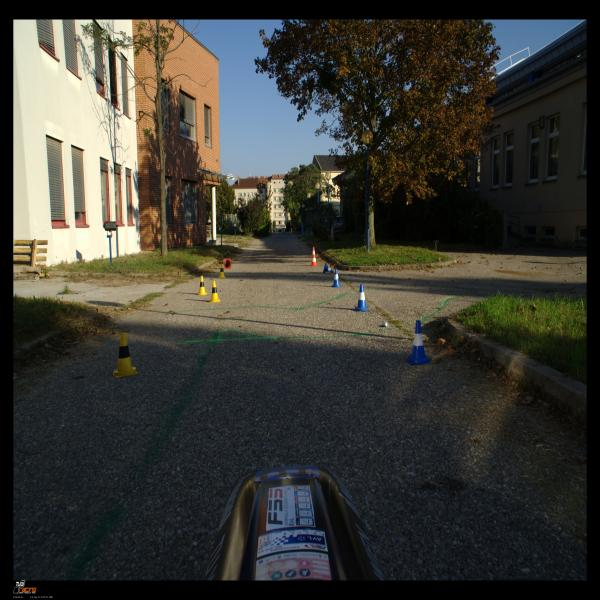blue_cone: (406, 320, 431, 364), (354, 284, 369, 312), (332, 268, 341, 288), (323, 263, 334, 273)
large_orange_cone: (310, 247, 318, 266), (224, 258, 231, 270)
yellow_cone: (113, 333, 138, 378), (209, 280, 220, 303), (197, 276, 208, 295), (218, 263, 226, 278)
